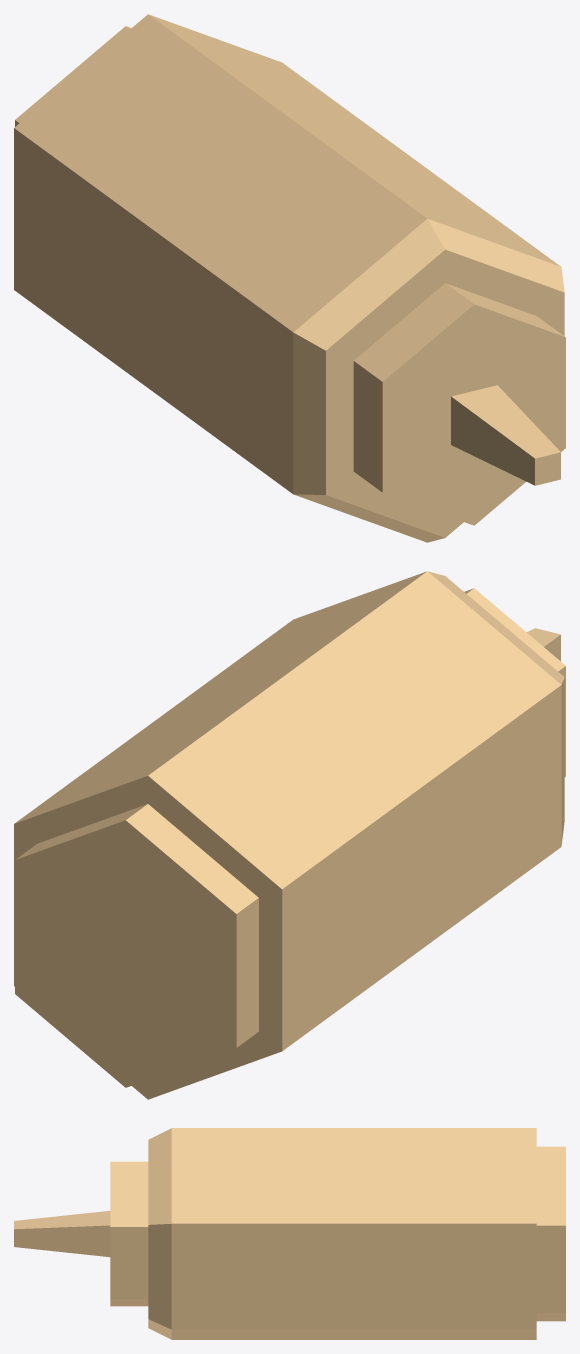
The model's file is mayonnaiseBottle.obj.
3 renders of one model, top to bottom at view 1: azimuth 30°, elevation 25°; view 2: azimuth 150°, elevation 25°; view 3: azimuth 270°, elevation 25°, orthographic. The views are drawn at different scales.
Parts seen in each view (by area): view 1: bottleMusterd; view 2: bottleMusterd; view 3: bottleMusterd.
Part boxes in pixels (box(x1,y1,x2,y2)): bottleMusterd: box(14, 14, 565, 542); bottleMusterd: box(14, 571, 565, 1099); bottleMusterd: box(14, 1128, 565, 1339).
Size of the model in its own units: 0.0721 by 0.0832 by 0.1966.
